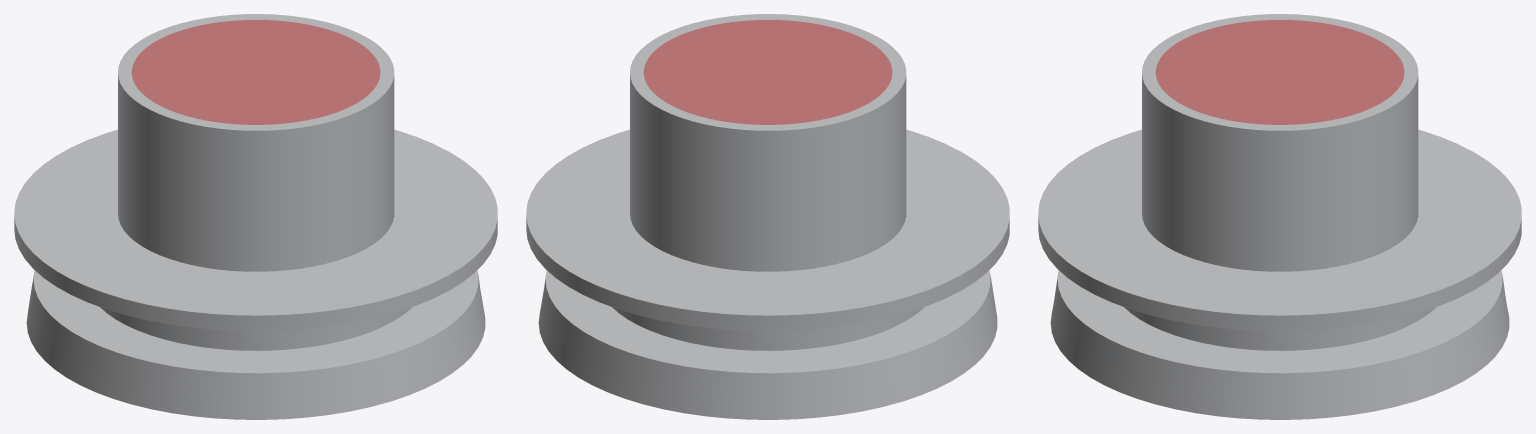
Rendered from step_02.glb.
The picture shows the model from 3 angles, left to right: view 1: azimuth 30°, elevation 25°; view 2: azimuth 150°, elevation 25°; view 3: azimuth 270°, elevation 25°; orthographic projection.
Parts seen in each view (by area): view 1: part__cord case, removed__cord case; view 2: part__cord case, removed__cord case; view 3: part__cord case, removed__cord case.
Part boxes in pixels (<box>): part__cord case: <box>14,14,497,419</box>; removed__cord case: <box>131,20,380,124</box>; part__cord case: <box>526,14,1009,419</box>; removed__cord case: <box>643,20,892,124</box>; part__cord case: <box>1038,14,1521,419</box>; removed__cord case: <box>1155,20,1404,124</box>.
Bounding box in the file's own units: 69.98 × 40 × 69.96.
